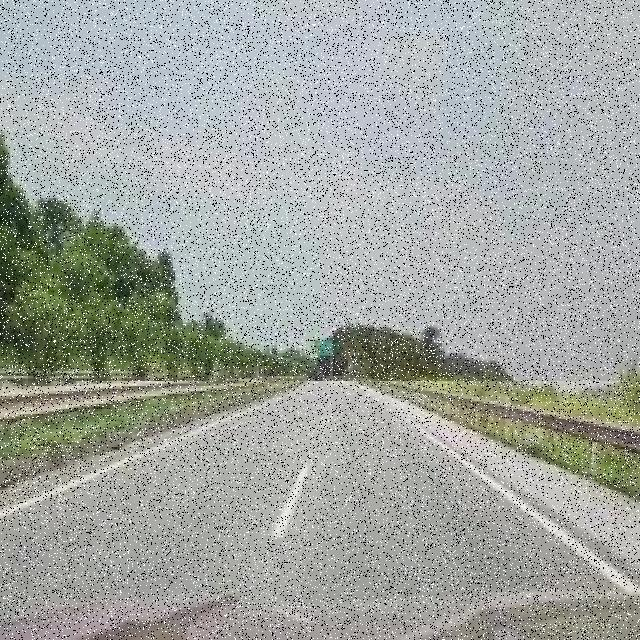clear-road: (0, 383, 640, 626)
